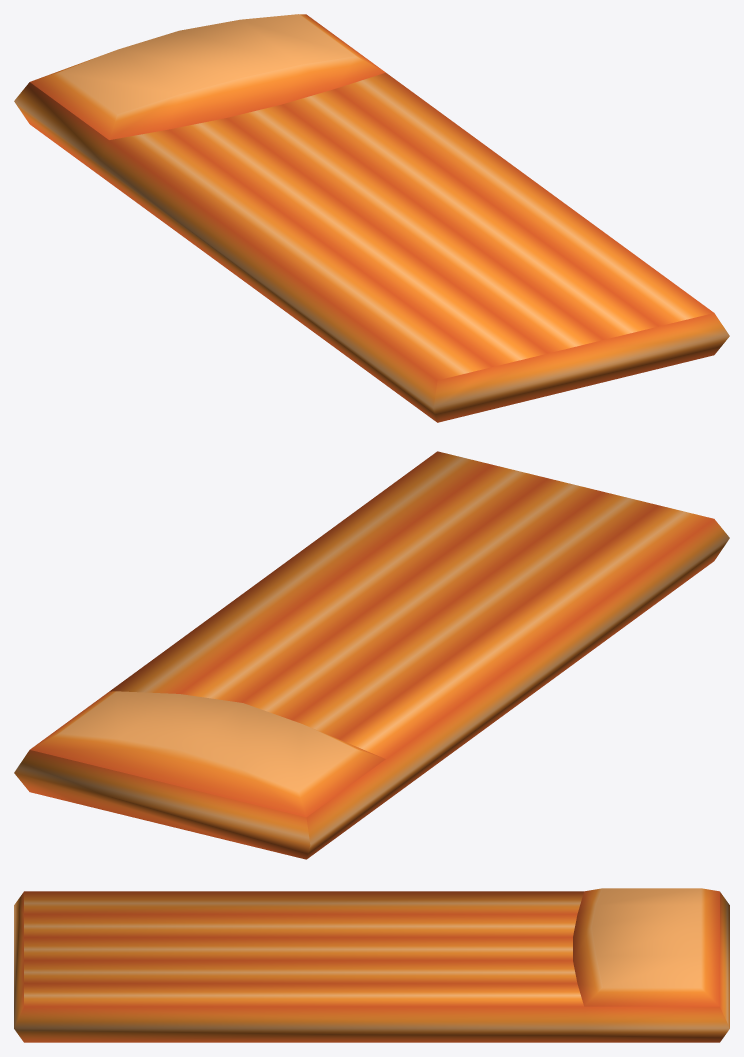
The model's file is Inflatable_Bed_06.fbx.
The picture shows the model from 3 angles, top to bottom: view 1: azimuth 30°, elevation 25°; view 2: azimuth 150°, elevation 25°; view 3: azimuth 270°, elevation 25°; orthographic projection. The views are drawn at different scales.
Parts seen in each view (by area): view 1: Inflatable_Bed_06; view 2: Inflatable_Bed_06; view 3: Inflatable_Bed_06.
Part boxes in pixels (bbox=[...]): Inflatable_Bed_06: bbox=[14, 14, 729, 422]; Inflatable_Bed_06: bbox=[14, 451, 729, 859]; Inflatable_Bed_06: bbox=[14, 888, 729, 1042].
Bounding box in the file's own units: 0.2846 × 0.0623 × 0.6982.
